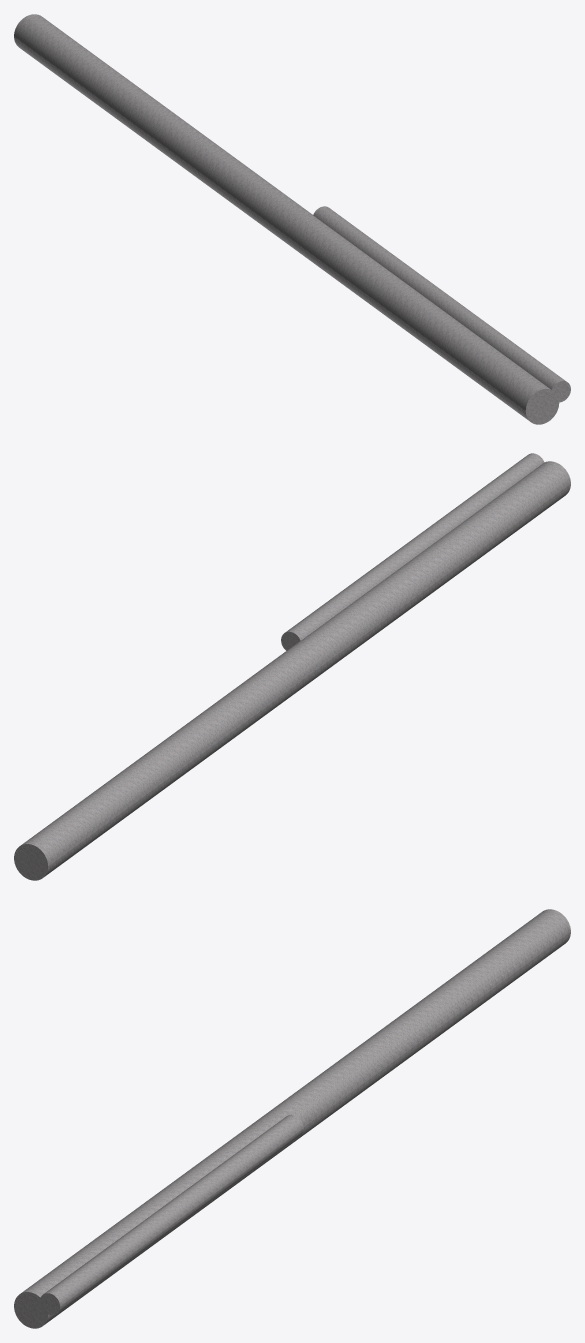
The picture shows the model from 3 angles, top to bottom: view 1: azimuth 30°, elevation 25°; view 2: azimuth 150°, elevation 25°; view 3: azimuth 330°, elevation 25°; orthographic projection. The views are drawn at different scales.
Visible parts, largest first — view 1: 0_0_2_1_2_3_2; view 2: 0_0_2_1_2_3_2; view 3: 0_0_2_1_2_3_2.
Part boxes in pixels (<box>): 0_0_2_1_2_3_2: <box>14,14,570,424</box>; 0_0_2_1_2_3_2: <box>14,453,570,880</box>; 0_0_2_1_2_3_2: <box>14,909,570,1328</box>.
Bounding box in the file's own units: 1.35 × 1.1 × 26.47.
Materials: 2 (2 with a texture image).
